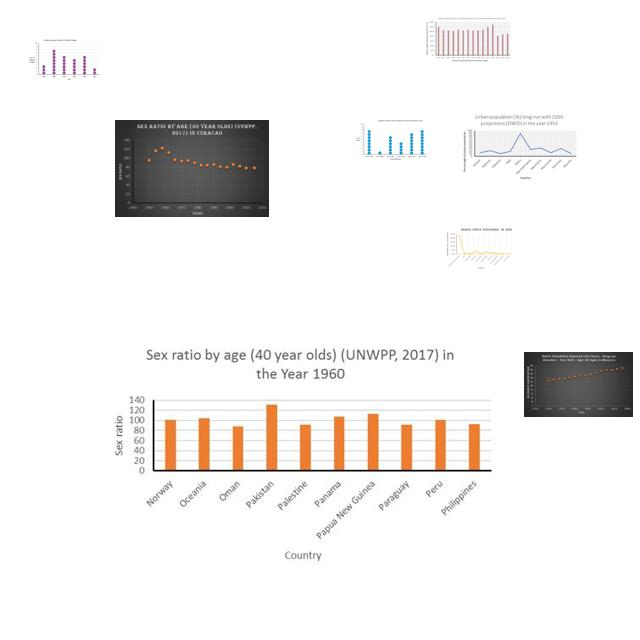Graph: (102, 341, 494, 565), (115, 120, 269, 217), (461, 113, 578, 182), (524, 352, 633, 417), (424, 16, 512, 64), (27, 38, 101, 82), (355, 119, 427, 161), (446, 227, 513, 271)
